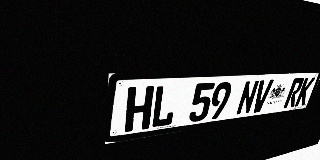5: (188, 82, 215, 123)
9: (207, 81, 233, 120)
H: (124, 86, 154, 132)
K: (294, 77, 315, 107)
L: (150, 84, 179, 128)
N: (235, 80, 260, 116)
R: (283, 78, 305, 108)
V: (250, 79, 274, 113)
